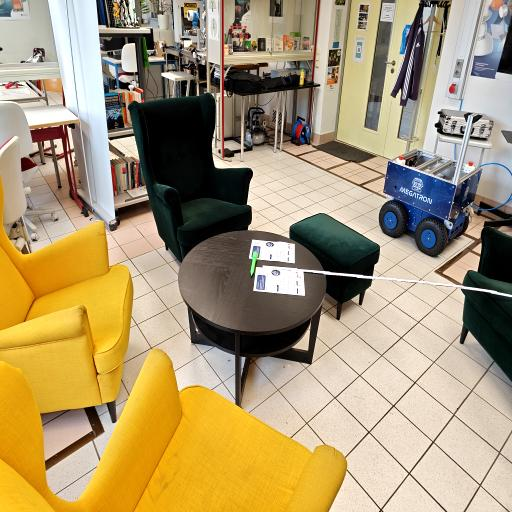Probe-Detection: (250, 250, 258, 276)
